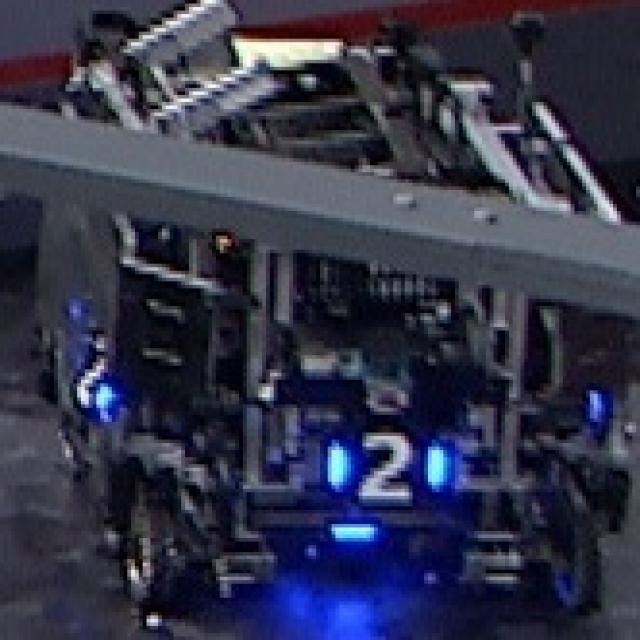B2: (316, 429, 459, 506), (50, 330, 112, 426)
